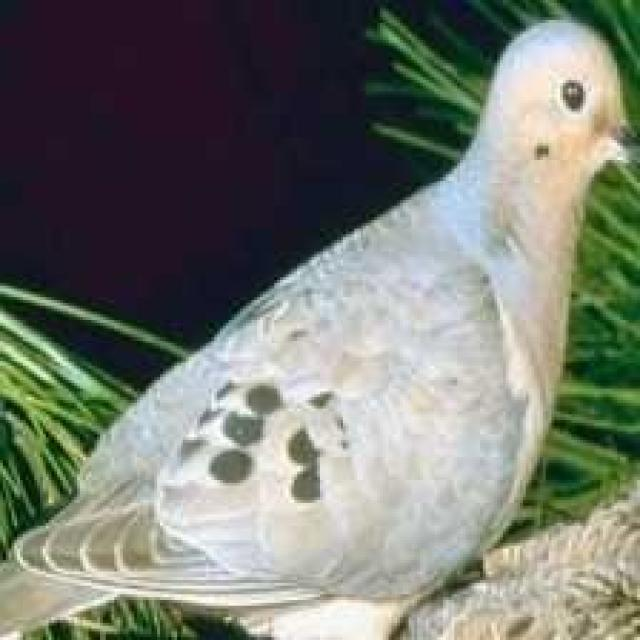bird: (5, 19, 640, 638)
